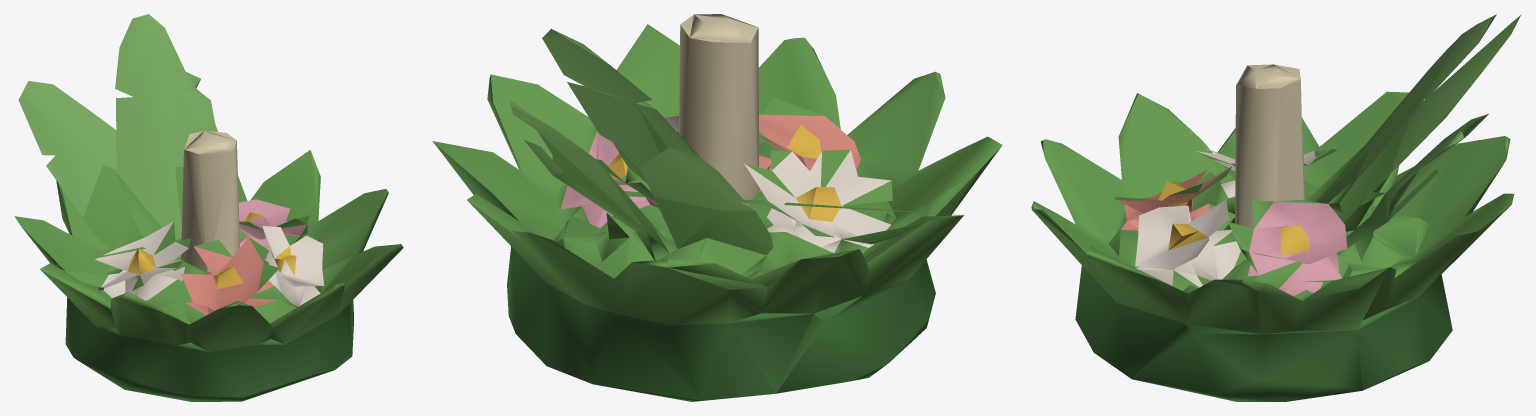
File: banana_leaf_01.low.glb
The picture shows the model from 3 angles, left to right: view 1: azimuth 30°, elevation 25°; view 2: azimuth 150°, elevation 25°; view 3: azimuth 270°, elevation 25°; orthographic projection. The views are drawn at different scales.
Size of the model in its own units: 2.08 by 1.54 by 2.06.
